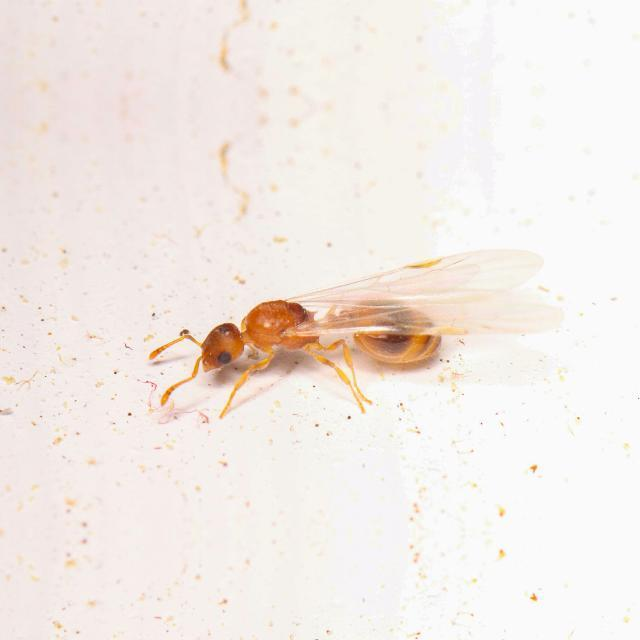Temnothorax: (126, 267, 530, 418)
